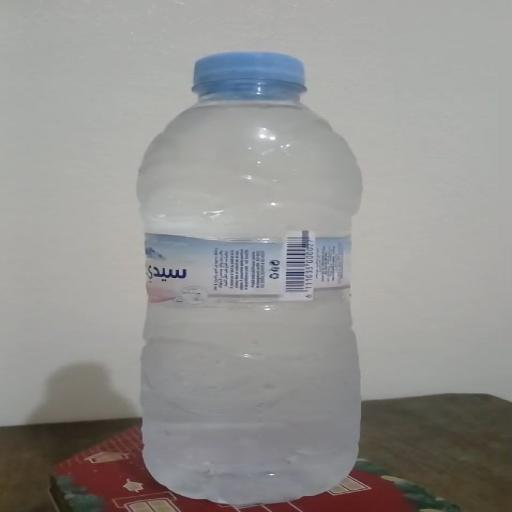bouteille conformite: (159, 290, 358, 500), (191, 83, 359, 239)
